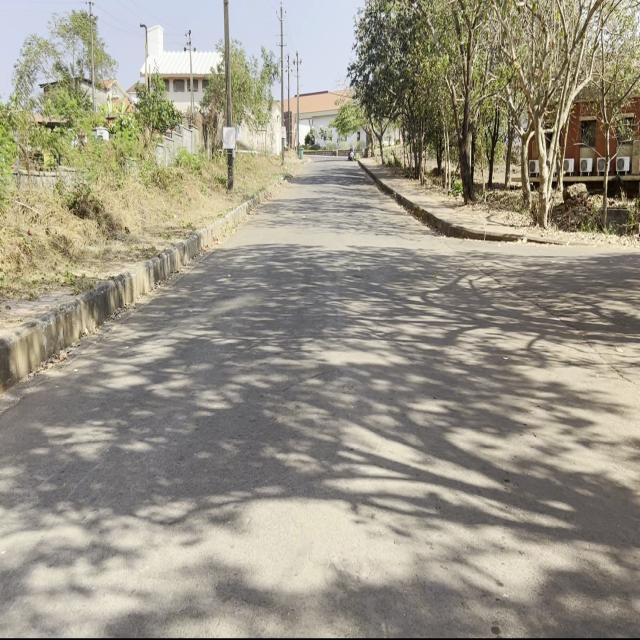Road: (3, 161, 632, 632)
